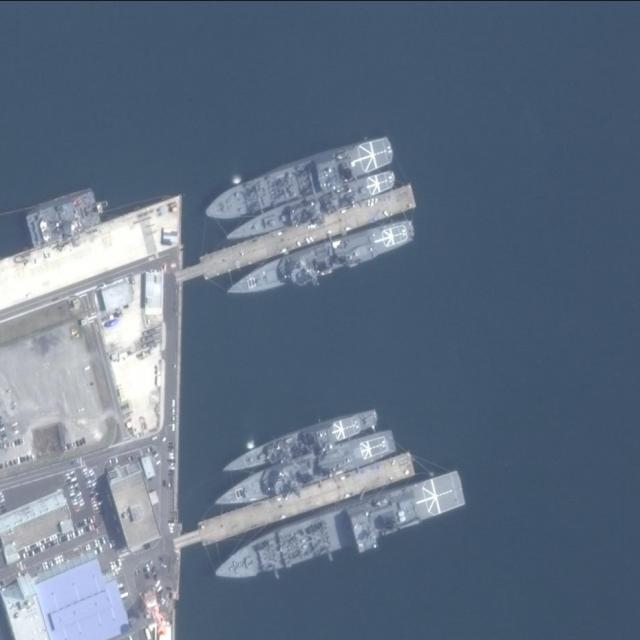Auxiliary Ships: (207, 470, 469, 587), (200, 133, 396, 225)
Destroyer: (220, 217, 419, 304), (209, 427, 398, 513), (220, 166, 398, 246), (219, 407, 381, 478), (220, 407, 381, 478)
Dock: (169, 451, 416, 553), (177, 183, 419, 286)
Other Warship: (129, 270, 153, 313)
